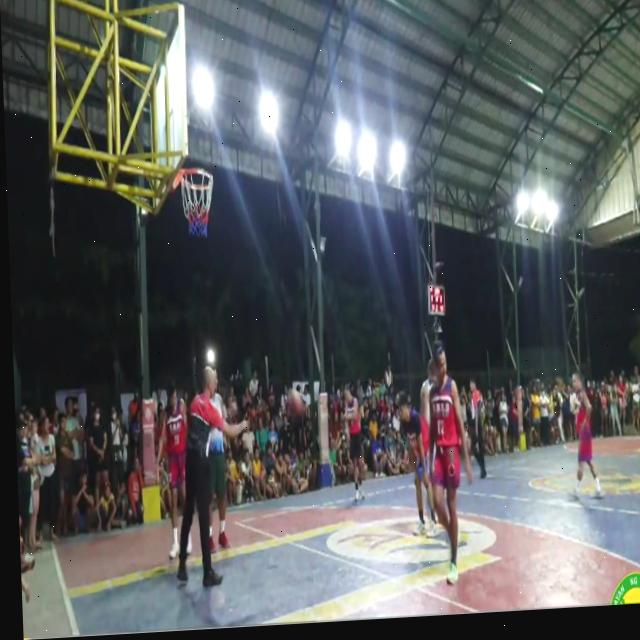basketball: (284, 386, 306, 427)
hoop: (175, 155, 221, 250)
